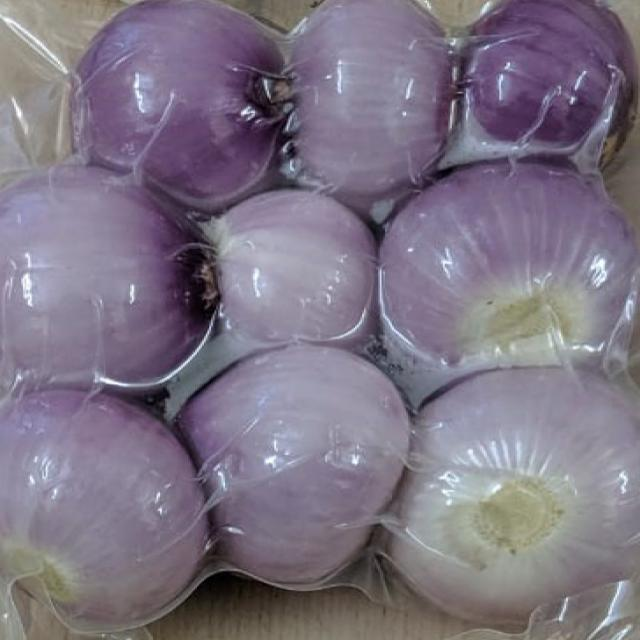onion: (397, 366, 639, 640), (166, 351, 403, 594), (386, 160, 634, 381), (0, 385, 213, 640), (0, 164, 197, 397), (78, 0, 278, 213), (262, 0, 450, 193), (187, 188, 375, 364), (449, 0, 635, 170)
